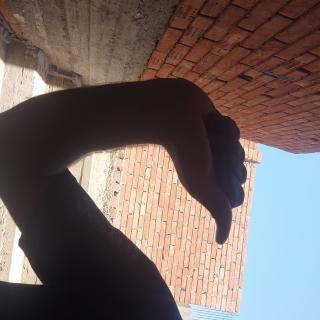DAD: (53, 92, 188, 220)
